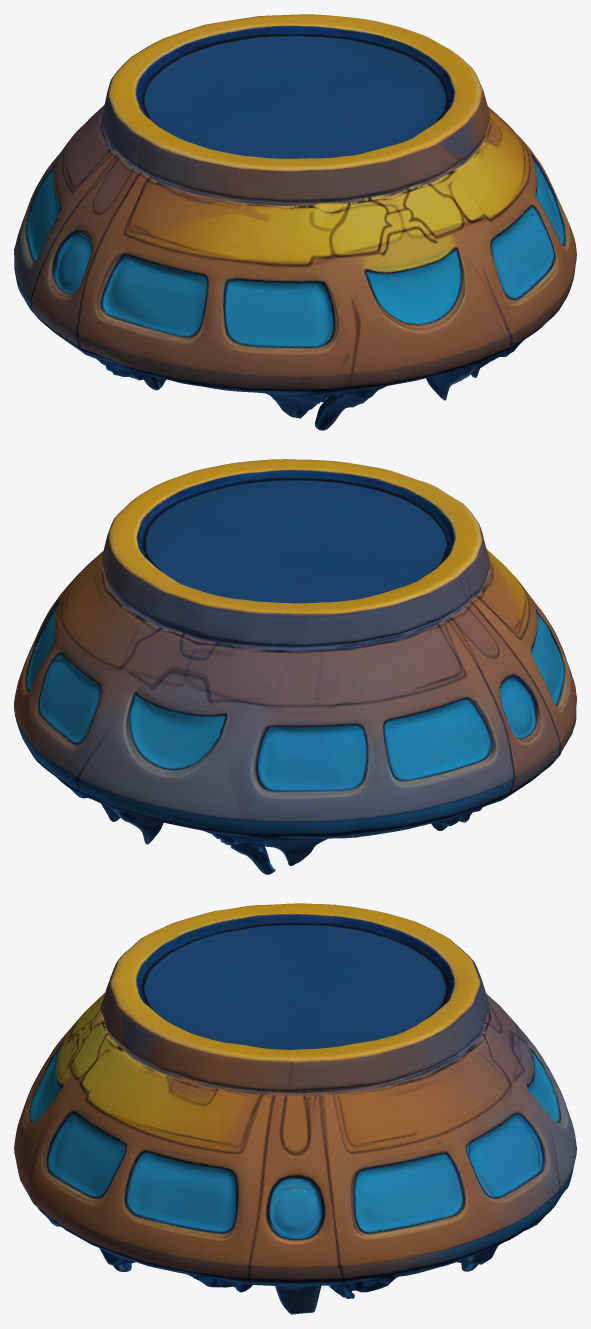
Rendered from piattaforma_stazione.obj.
3 renders of one model, top to bottom at view 1: azimuth 30°, elevation 25°; view 2: azimuth 150°, elevation 25°; view 3: azimuth 270°, elevation 25°, orthographic.
Visible parts, largest first — view 1: tripo_node_ecdc5734-042e-4b2c-8000-33dcf4282673; view 2: tripo_node_ecdc5734-042e-4b2c-8000-33dcf4282673; view 3: tripo_node_ecdc5734-042e-4b2c-8000-33dcf4282673.
Part boxes in pixels (bbox=[...]): tripo_node_ecdc5734-042e-4b2c-8000-33dcf4282673: bbox=[14, 14, 576, 430]; tripo_node_ecdc5734-042e-4b2c-8000-33dcf4282673: bbox=[14, 459, 576, 874]; tripo_node_ecdc5734-042e-4b2c-8000-33dcf4282673: bbox=[14, 903, 576, 1314].
Bounding box in the file's own units: 0.9982 × 0.5144 × 0.9951.
Materials: 1 (1 with a texture image).
